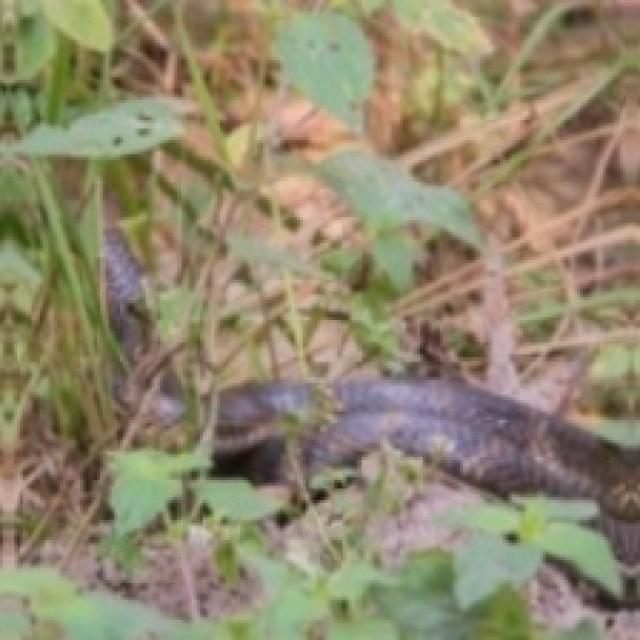king cobra: (109, 377, 637, 637)
